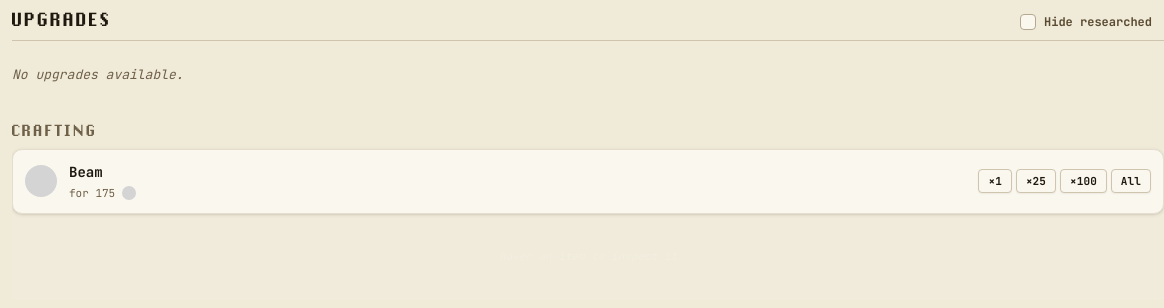
Story 47-06: Workshop flavor text › shows flavor text in inspector when hovering a craft row
Hover over the list item with test id "craft-beam" at (588, 181), box [12, 148, 1163, 214]
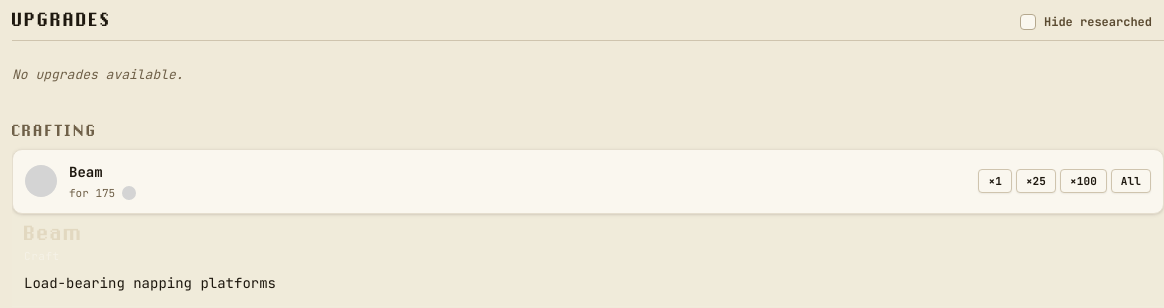
Now the element with test id "inspector-panel" shows "beam", box [24, 226, 84, 243]
